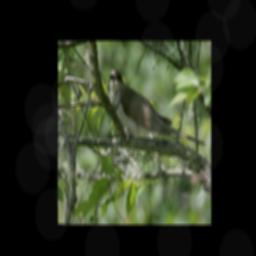Cuckoo: (109, 67, 207, 148)
